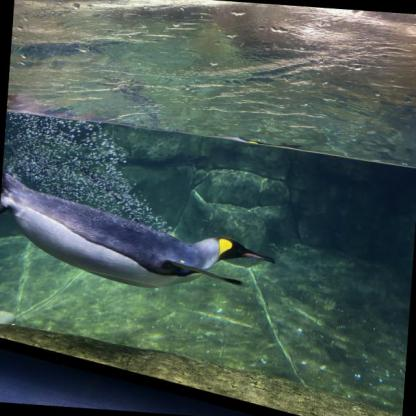penguin: (0, 172, 281, 298)
